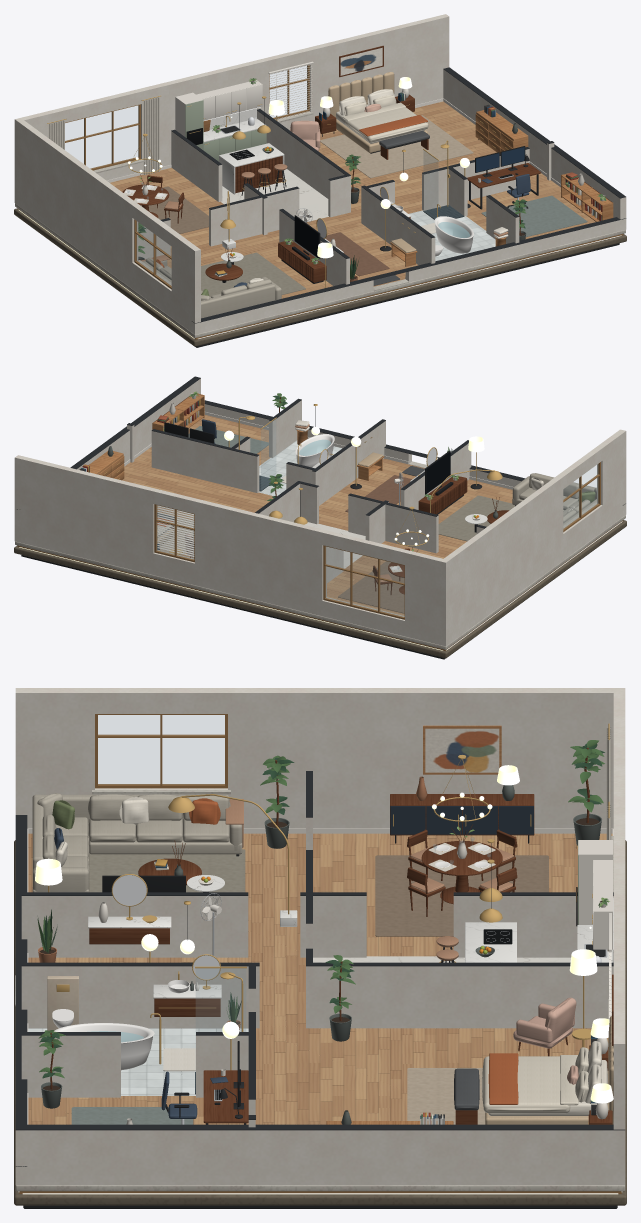
Rendered from world.glb.
The picture shows the model from 3 angles, top to bottom: view 1: azimuth 30°, elevation 25°; view 2: azimuth 150°, elevation 25°; view 3: azimuth 270°, elevation 25°; orthographic projection. The views are drawn at different scales.
Parts seen in each view (by area): view 1: Wall.North.Upper, Wall.West.Upper, Plinth, Kitchen, Wall.West, Wall.South, Floor.bedroom, Wall.East, Rug.Bedroom, Window.Dining.Glass, Bed.Linen, Wall.North (+45 smaller); view 2: Wall.North.Upper, Wall.North, Plinth, Wall.West.Upper, Wall.West, Wall.E.Mid, Window.Dining.Glass, Floor.bedroom, Wall.B.Bath, Wall.East, Wall.D.Dining, Wall.South (+35 smaller); view 3: Wall.West.Upper, Wall.East, Floor.bedroom, Wall.B.Kitchen, Wall.West, Plinth, Sofa, Wall.A.Living, Wall.B.Bath, Floor.dining, Window.Living.Glass, Bed.Linen (+46 smaller).
Boxes of the visible parts, x1,y1,x2,y2 form: Wall.North.Upper: [14, 14, 449, 167]; Wall.West.Upper: [18, 120, 200, 297]; Plinth: [14, 203, 626, 347]; Kitchen: [175, 80, 284, 194]; Wall.West: [18, 168, 200, 334]; Wall.South: [191, 217, 626, 334]; Floor.bedroom: [319, 101, 547, 220]; Wall.East: [443, 67, 626, 230]; Rug.Bedroom: [320, 115, 473, 178]; Window.Dining.Glass: [65, 106, 138, 168]; Bed.Linen: [336, 89, 428, 143]; Wall.North: [14, 63, 449, 204]; Wall.North.Upper: [14, 455, 449, 609]; Wall.North: [14, 504, 449, 646]; Plinth: [14, 515, 626, 659]; Wall.West.Upper: [440, 429, 626, 607]; Wall.West: [440, 477, 626, 645]; Wall.E.Mid: [151, 429, 259, 492]; Window.Dining.Glass: [325, 547, 404, 616]; Floor.bedroom: [122, 462, 273, 557]; Wall.B.Bath: [312, 419, 385, 505]; Wall.East: [14, 376, 200, 542]; Wall.D.Dining: [385, 502, 438, 553]; Wall.South: [204, 400, 626, 515]; Wall.West.Upper: [15, 688, 625, 771]; Wall.East: [15, 1124, 625, 1185]; Floor.bedroom: [255, 1026, 608, 1124]; Wall.B.Kitchen: [306, 962, 613, 1028]; Wall.West: [15, 771, 613, 828]; Plinth: [14, 840, 626, 1208]; Sofa: [32, 793, 242, 892]; Wall.A.Living: [21, 892, 248, 957]; Wall.B.Bath: [21, 962, 259, 1028]; Floor.dining: [313, 833, 612, 956]; Window.Living.Glass: [98, 715, 224, 784]; Bed.Linen: [482, 1041, 607, 1115].
Size of what is drawn, in the model's own units: 14.62 by 3.22 by 10.6.
68 materials, 29 textured.
